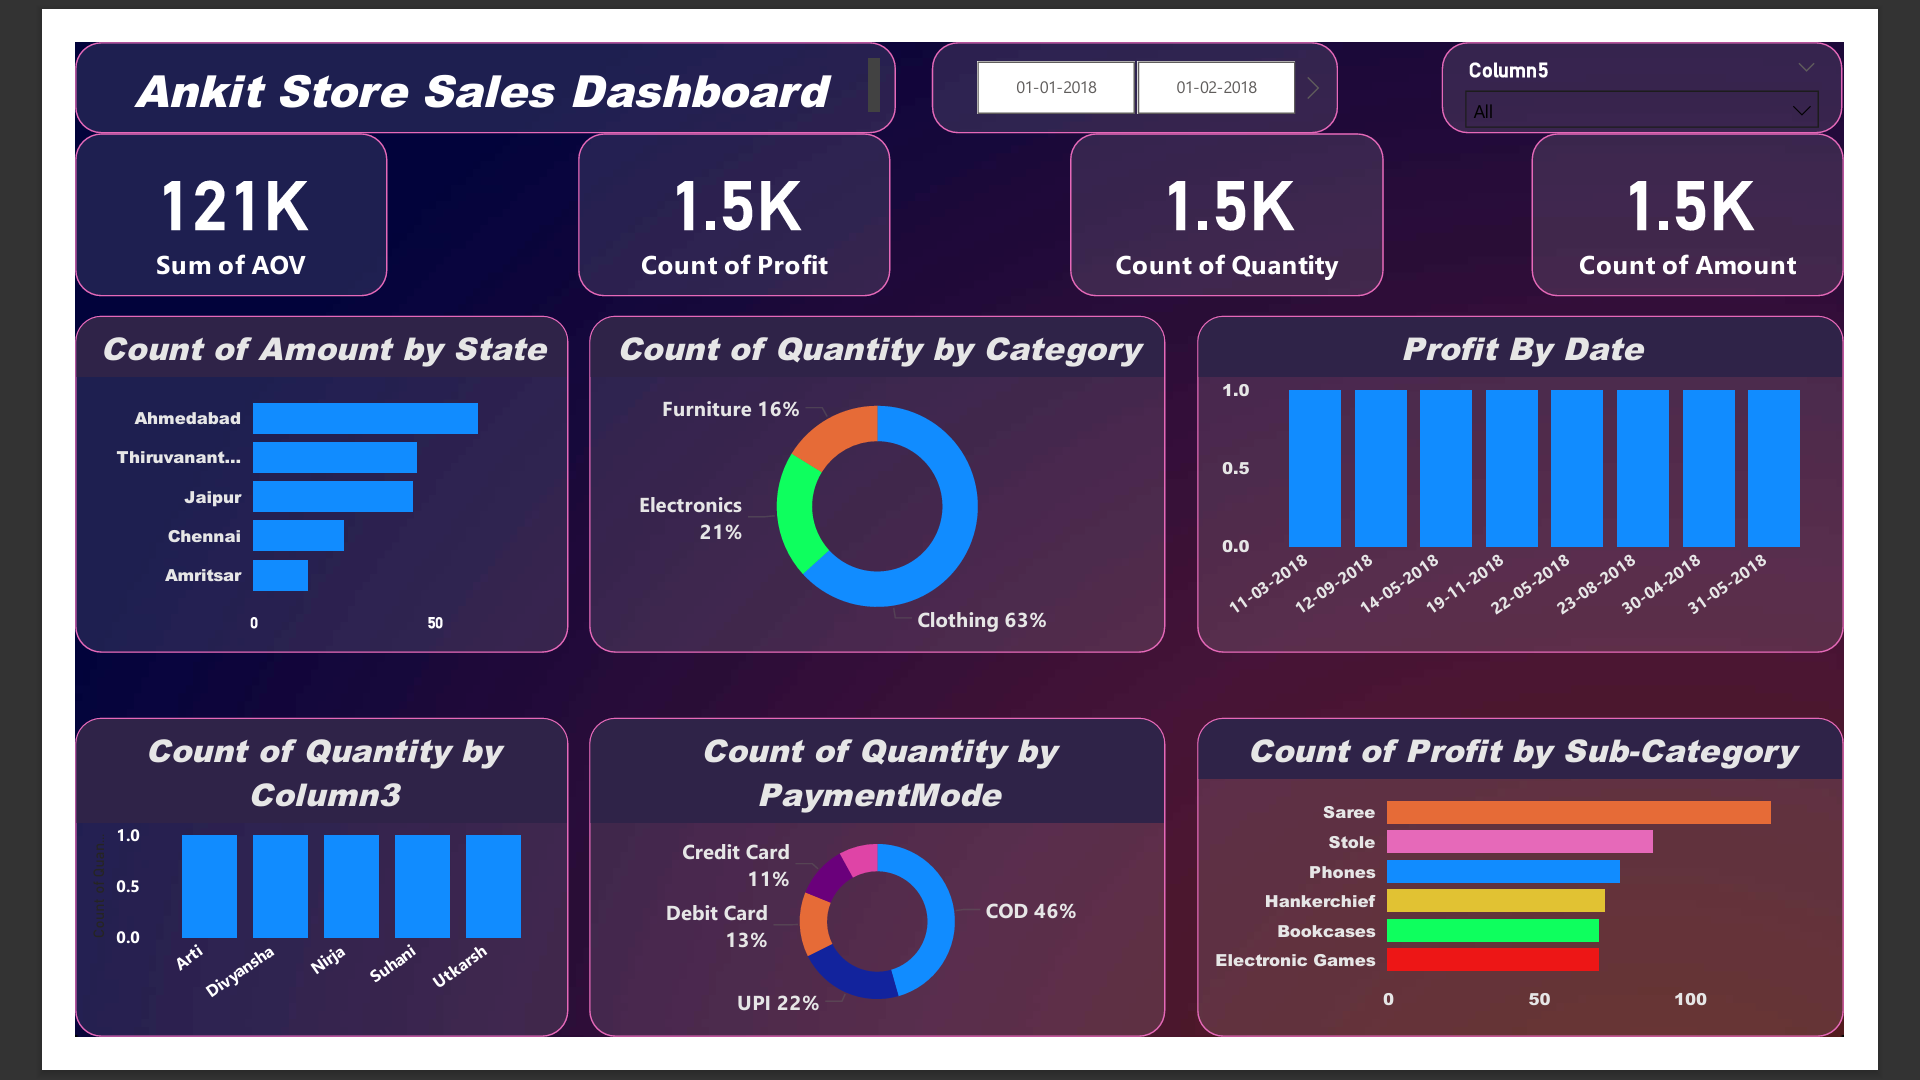

The dashboard page shown, as its layout file describes it:
{"tool":"powerbi","page":{"name":"Page 1","canvas":[1280,720],"ordinal":0},"visuals":[{"type":"textbox","box":[0,0,594.2,65.9],"z":0},{"type":"columnChart","title":"Profit By Date","fields":{"Y":["Details.Profit"],"Category":["Orders.Column2"]},"box":[812.4,197.6,467.9,244.3],"z":1000},{"type":"barChart","fields":{"Category":["Details.Sub-Category"],"Y":["Details.Profit"]},"box":[812.4,488.5,467.9,231.9],"z":2000},{"type":"donutChart","fields":{"Category":["Details.Category"],"Y":["Details.Quantity"]},"box":[371.9,197.6,417.2,244.3],"z":3000},{"type":"donutChart","fields":{"Y":["Details.Quantity"],"Category":["Details.PaymentMode"]},"box":[371.9,488.5,417.2,231.9],"z":4000},{"type":"card","fields":{"Values":["Details.Amount"]},"box":[1053.9,65.9,226.4,118],"z":5000},{"type":"card","fields":{"Values":["Details.Quantity"]},"box":[720.4,65.9,226.4,118],"z":6000},{"type":"card","fields":{"Values":["Details.Profit"]},"box":[363.6,65.9,226.4,118],"z":7000},{"type":"card","fields":{"Values":["Details.AOV"]},"box":[0,65.9,226.4,118],"z":8000},{"type":"barChart","title":"Count of Amount by State","fields":{"Category":["Orders.Column5"],"Y":["Details.Amount"]},"box":[0,197.6,356.8,244.3],"z":9000},{"type":"columnChart","fields":{"Y":["Details.Quantity"],"Category":["Orders.Column3"]},"box":[0,488.5,356.8,231.9],"z":10000},{"type":"slicer","fields":{"Values":["Orders.Column2"]},"box":[620.2,0,293.7,65.9],"z":11000},{"type":"slicer","fields":{"Values":["Orders.Column5"]},"box":[989.4,0,289.5,65.9],"z":12000}]}

Visuals, with their boxes in screenshot pixels (x1, y1, x2, y2), scaled from the page's 1280x720 canvas onto the 1920x1080 screenshot:
textbox: locate(0, 0, 891, 99)
"Profit By Date" columnChart: locate(1219, 296, 1919, 663)
barChart - Details.Sub-Category x Details.Profit: locate(1219, 733, 1919, 1079)
donutChart - Details.Category x Details.Quantity: locate(558, 296, 1184, 663)
donutChart - Details.Quantity x Details.PaymentMode: locate(558, 733, 1184, 1079)
card - Details.Amount: locate(1581, 99, 1919, 276)
card - Details.Quantity: locate(1081, 99, 1420, 276)
card - Details.Profit: locate(545, 99, 885, 276)
card - Details.AOV: locate(0, 99, 340, 276)
"Count of Amount by State" barChart: locate(0, 296, 535, 663)
columnChart - Details.Quantity x Orders.Column3: locate(0, 733, 535, 1079)
slicer - Orders.Column2: locate(930, 0, 1371, 99)
slicer - Orders.Column5: locate(1484, 0, 1918, 99)
